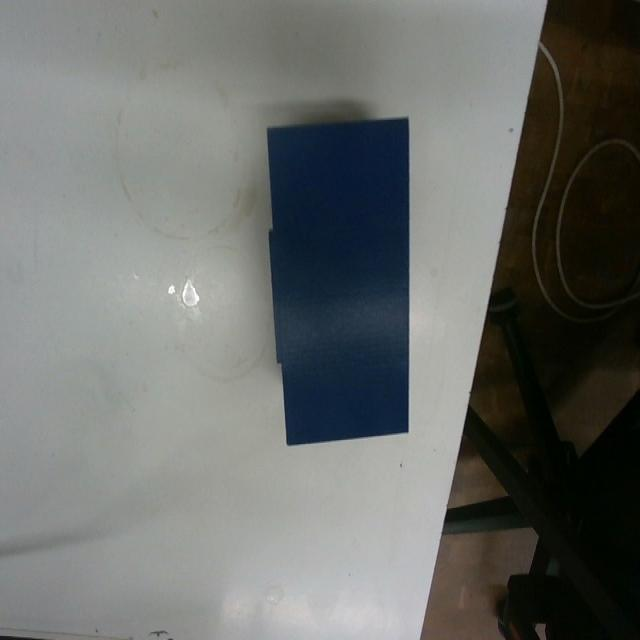Blue Cuboid: (263, 112, 412, 448)
